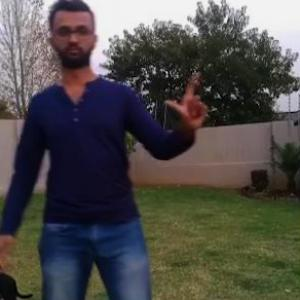land_hand: (161, 68, 209, 131)
